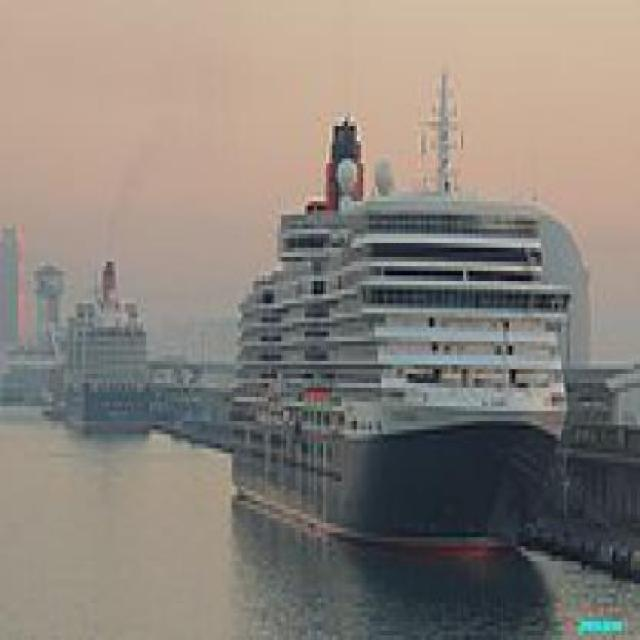cruise: (227, 122, 587, 576)
